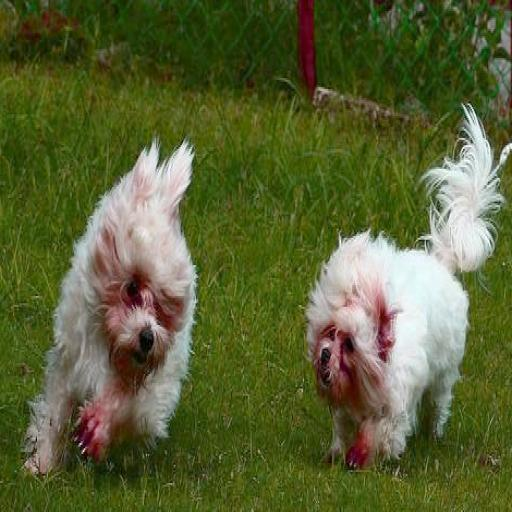dog_face: (75, 188, 189, 386), (302, 250, 404, 413)
